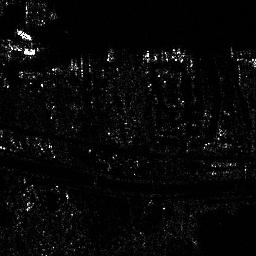ship: (1, 38, 37, 55)
